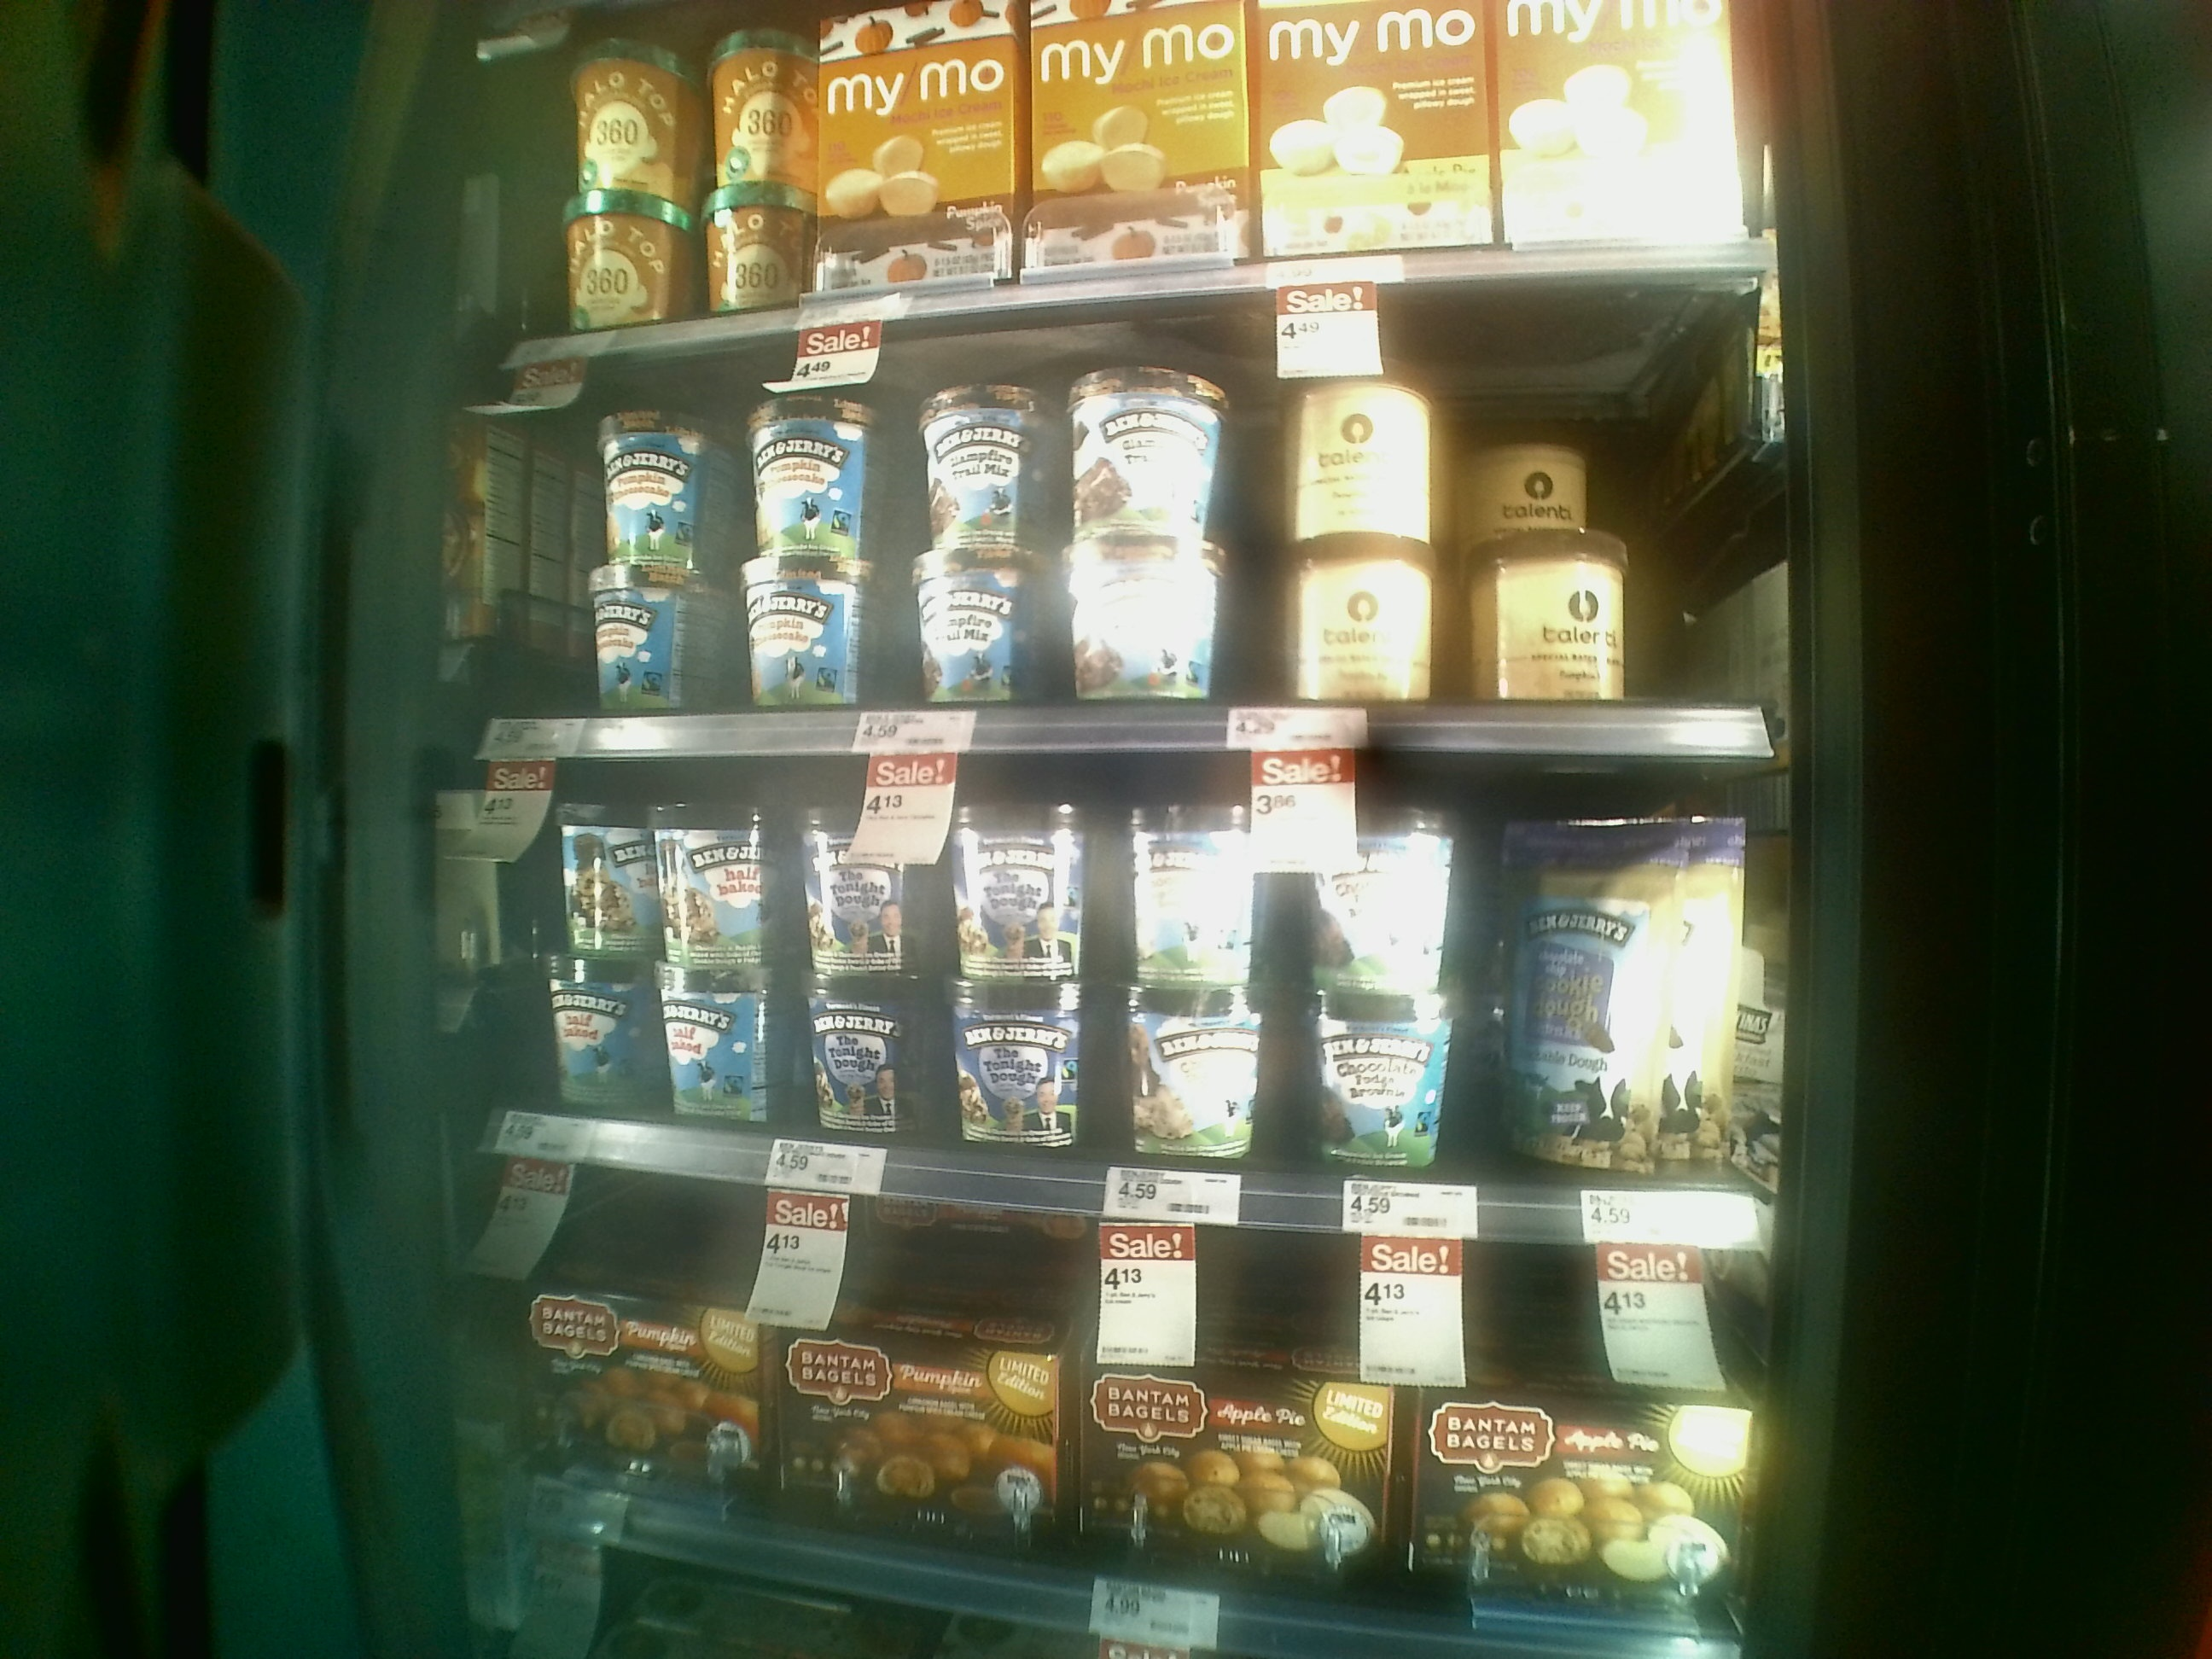shelf: (439, 718, 1780, 1249), (465, 314, 1797, 760)
